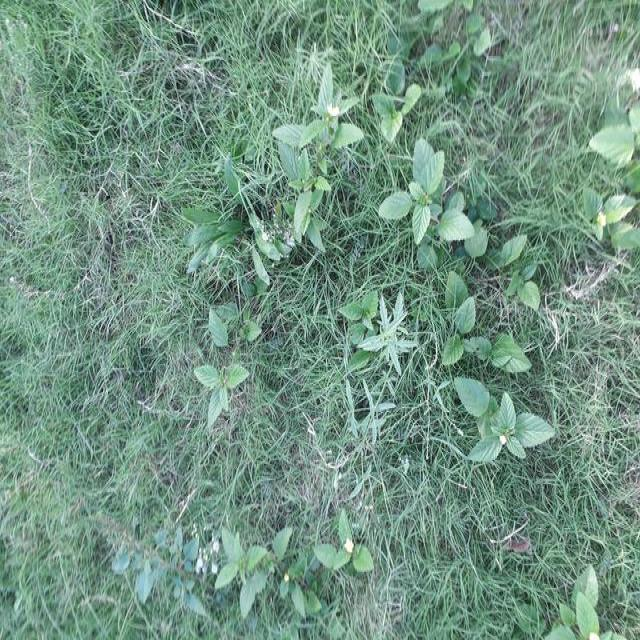weed: (274, 70, 360, 246), (205, 523, 378, 603), (442, 374, 550, 476), (382, 151, 477, 262), (587, 92, 640, 258), (428, 276, 488, 374), (546, 562, 612, 640), (350, 293, 415, 362), (182, 358, 247, 419)
